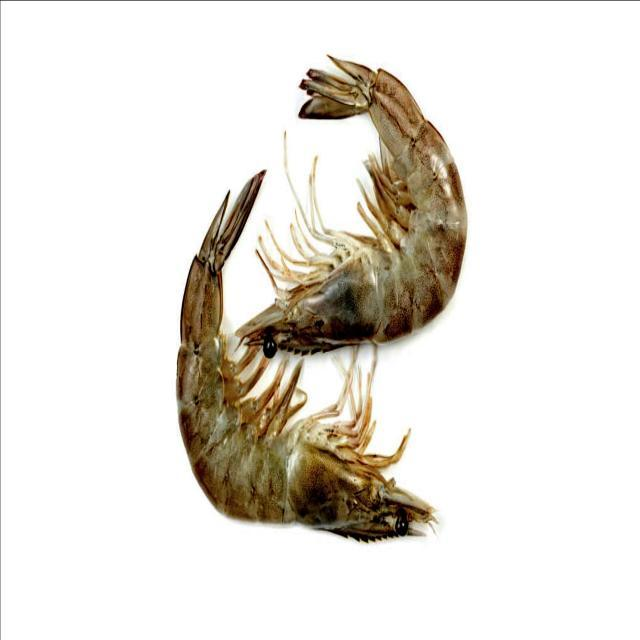shrimp: (177, 172, 433, 540), (236, 59, 467, 353)
